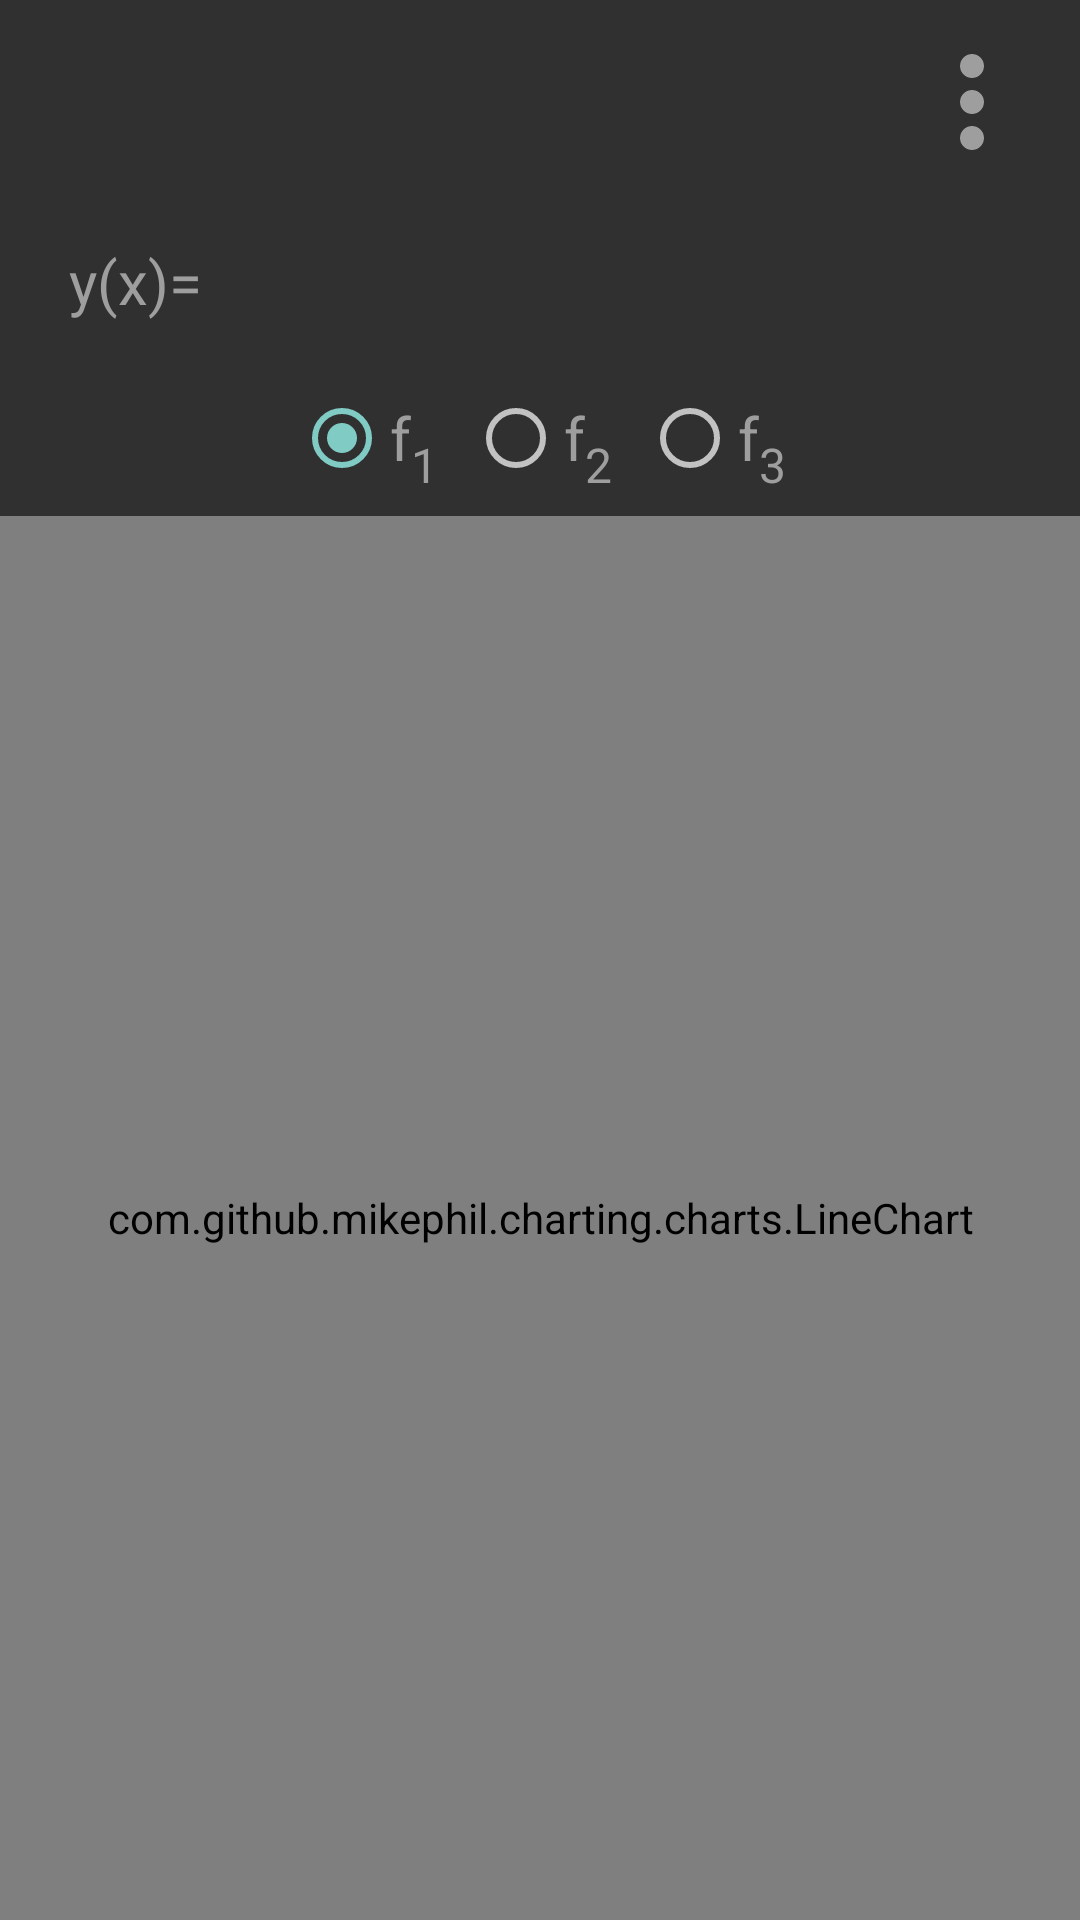

Locate icon controls on the screen. Image size 1080 × 1920, boxes as (x1, y1, x2, y2).
menu: (960, 54, 984, 150)
